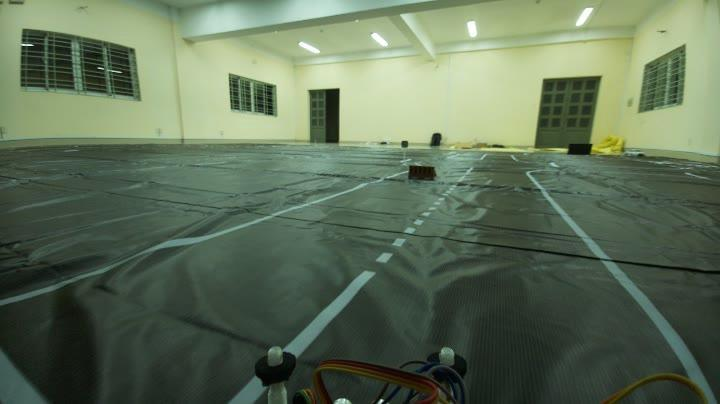roadblock: (403, 163, 442, 187)
